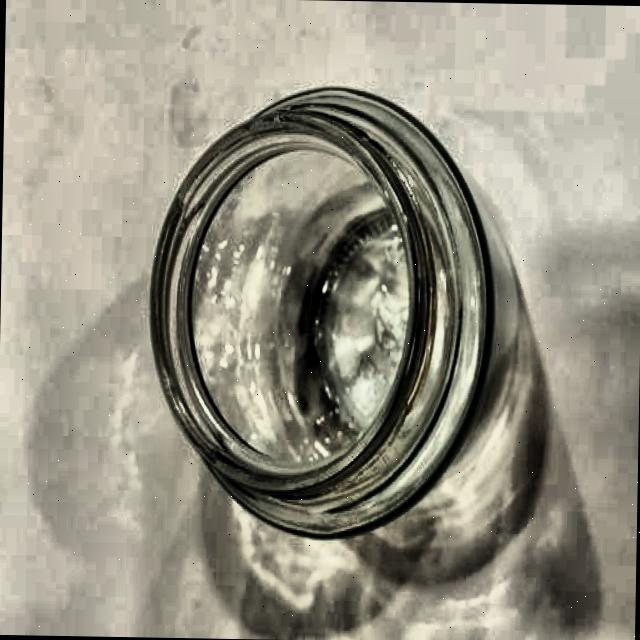glass: (146, 77, 498, 552)
